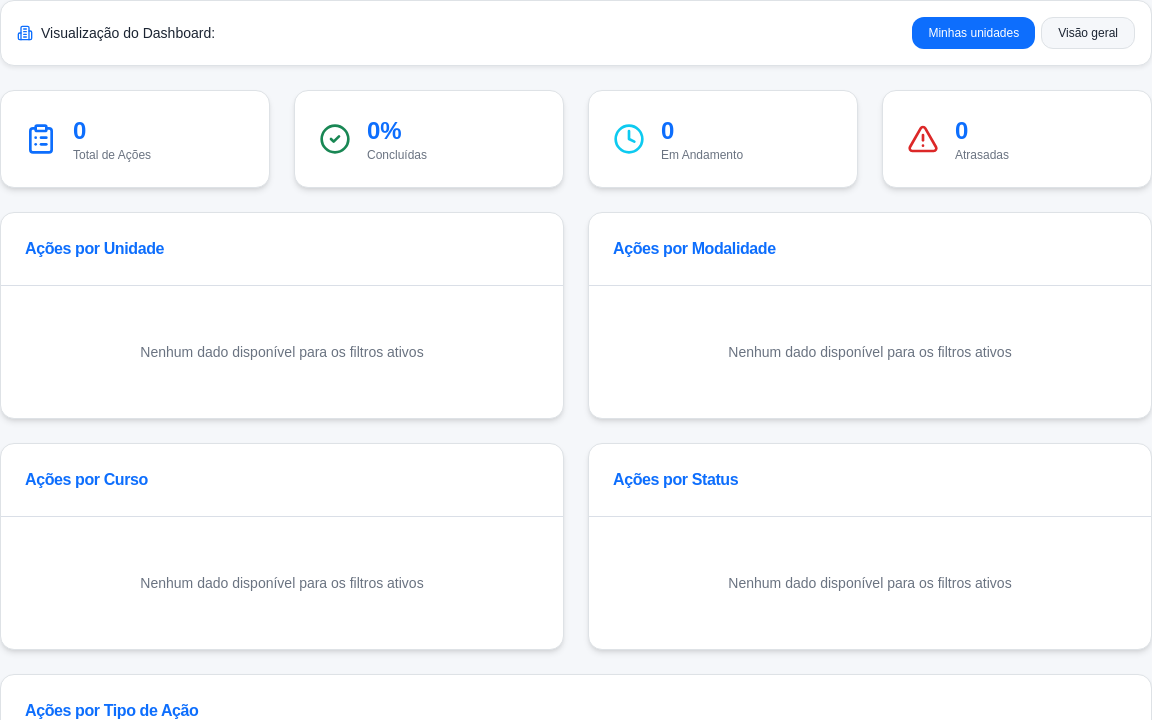
Test case: PHASE 7.0 — Refinamento de Permissões, Prazos e Ações › 1. ADMIN pode visualizar botão de edição para qualquer ação no Dashboard
The image size is (1152, 720).
Check: the text "Total de Ações" is shown, box [73, 147, 151, 163]
Click the text "Total de Ações" at (135, 139), box [0, 90, 270, 188]
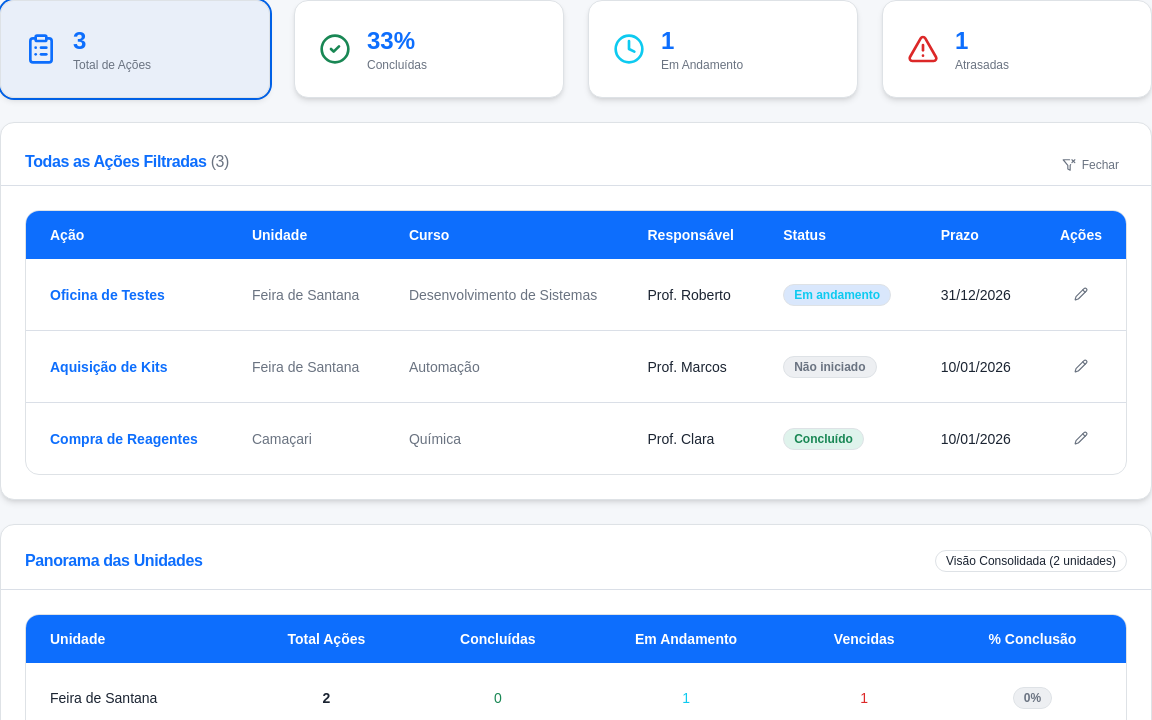
Check: the number of buttons titled "Editar ação" is 3, box [1070, 283, 1092, 305]; [1070, 355, 1092, 377]; [1070, 427, 1092, 449]
